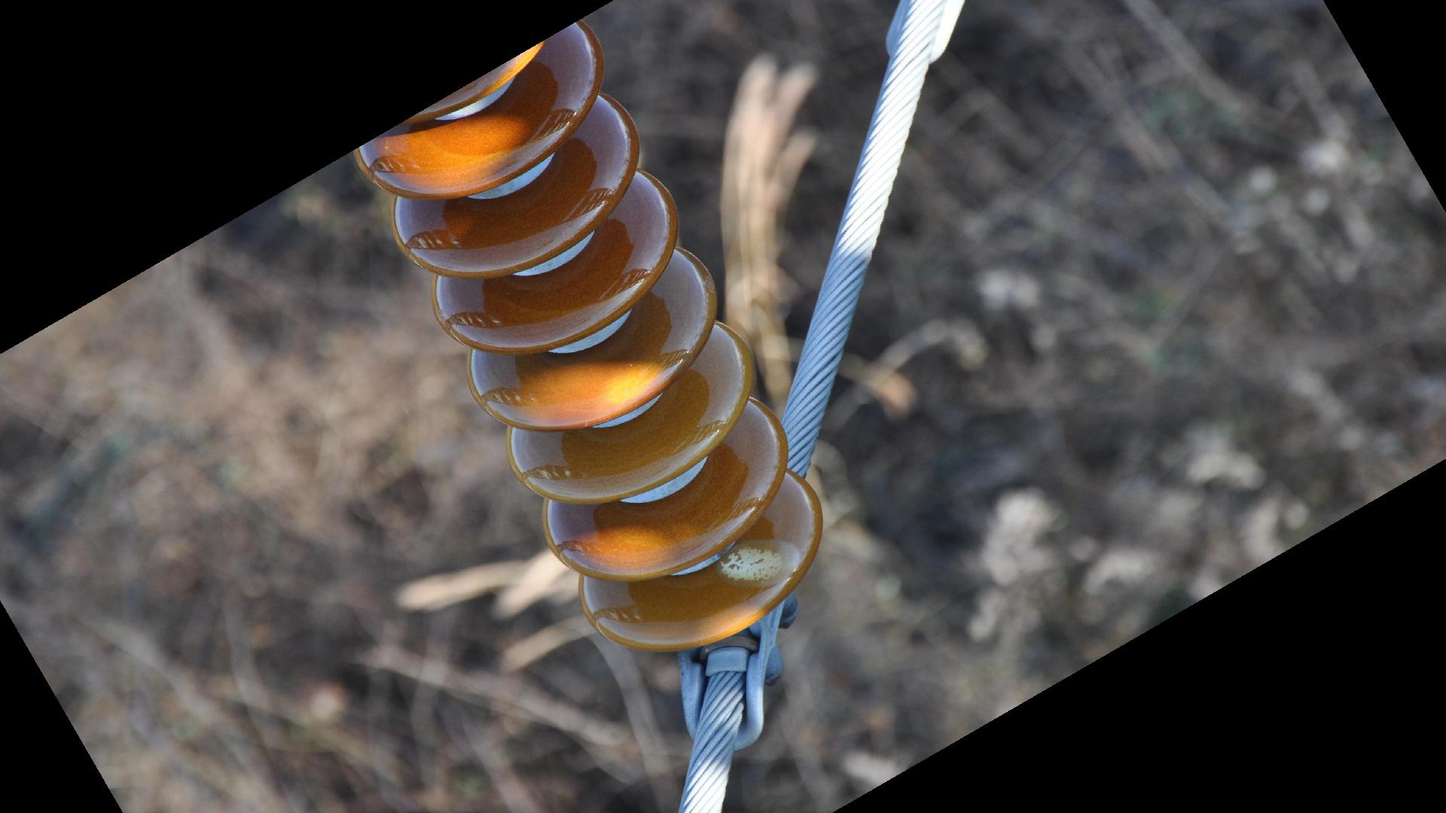insulator: (349, 18, 830, 658)
insulator_flashover: (713, 532, 805, 591)
